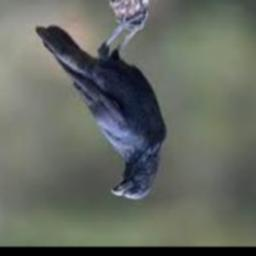Crow: (34, 21, 167, 201)
